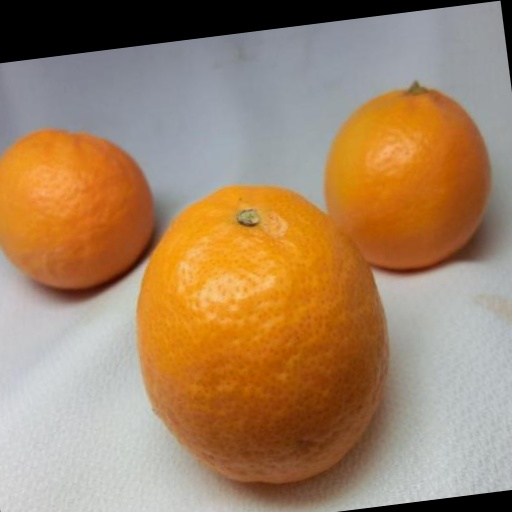fruit: (137, 186, 387, 482), (325, 84, 489, 269), (0, 130, 153, 288)
